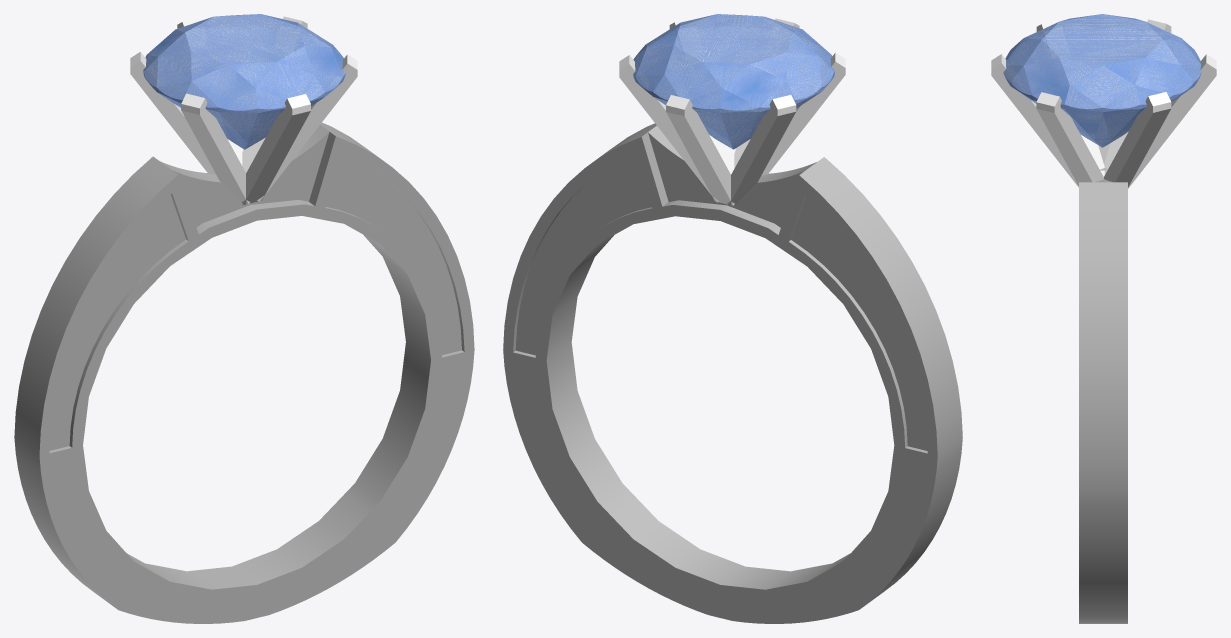
The model's file is Jewelry 2.dae.
The picture shows the model from 3 angles, left to right: view 1: azimuth 30°, elevation 25°; view 2: azimuth 150°, elevation 25°; view 3: azimuth 270°, elevation 25°; orthographic projection. The views are drawn at different scales.
Visible parts, largest first — view 1: IVICIC (×3), Diamond_1, Component_7 (×4); view 2: IVICIC (×3), Diamond_1, Component_7 (×4); view 3: IVICIC, Diamond_1, Component_7 (×6).
Boxes of the visible parts, x1=… form: IVICIC (×3): x1=14, y1=122, x2=474, y2=623; Diamond_1: x1=143, y1=14, x2=345, y2=149; Component_7 (×4): x1=130, y1=52, x2=357, y2=204; IVICIC (×3): x1=503, y1=123, x2=962, y2=623; Diamond_1: x1=633, y1=14, x2=834, y2=149; Component_7 (×4): x1=619, y1=52, x2=845, y2=205; IVICIC: x1=1079, y1=143, x2=1127, y2=623; Diamond_1: x1=1003, y1=14, x2=1201, y2=147; Component_7 (×6): x1=991, y1=19, x2=1216, y2=188.
Bounding box in the file's own units: 144 × 65.71 × 180.
Materials: 4 (1 with a texture image).
